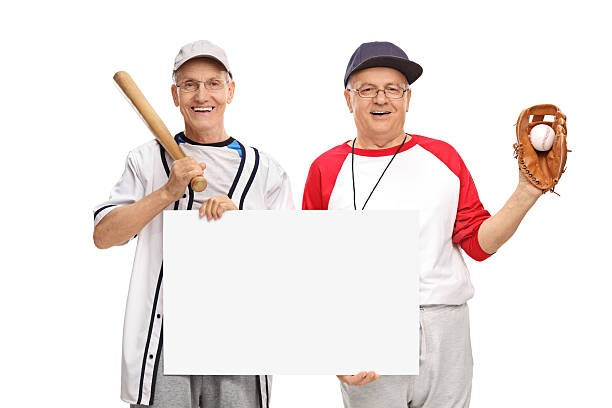bita: (115, 65, 197, 198)
